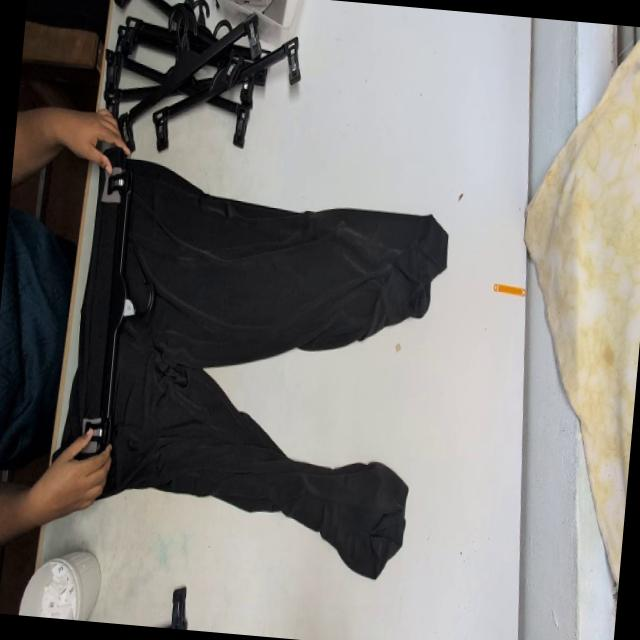new-garment: (61, 148, 446, 577)
